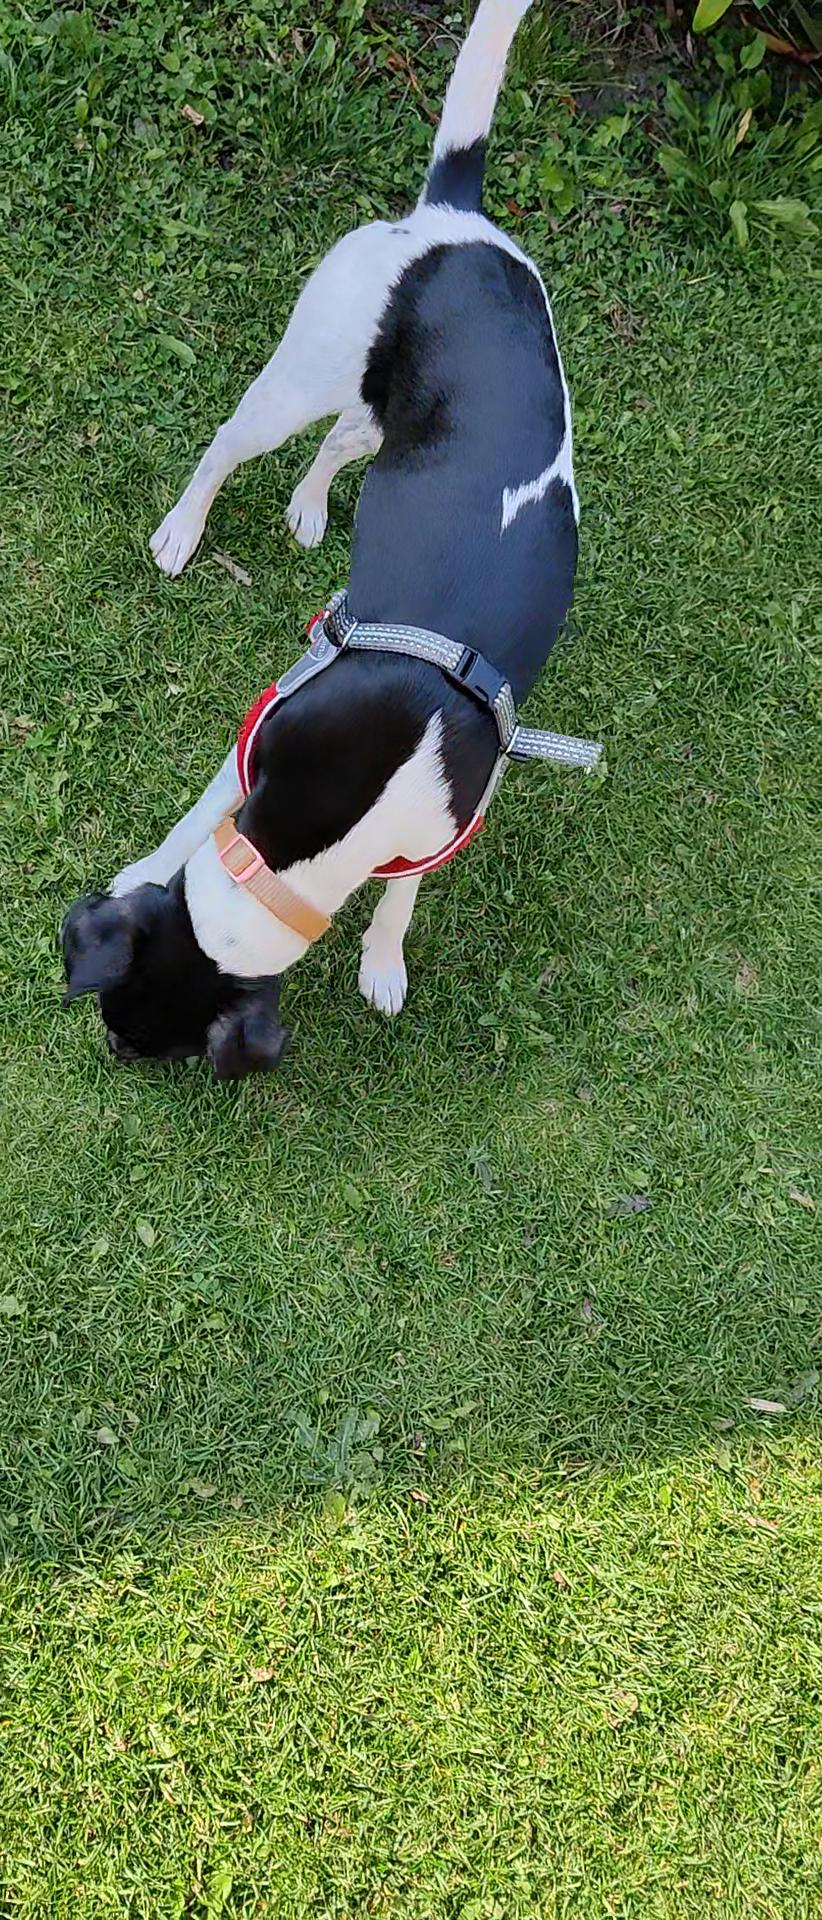Dog: (40, 0, 606, 1081)
